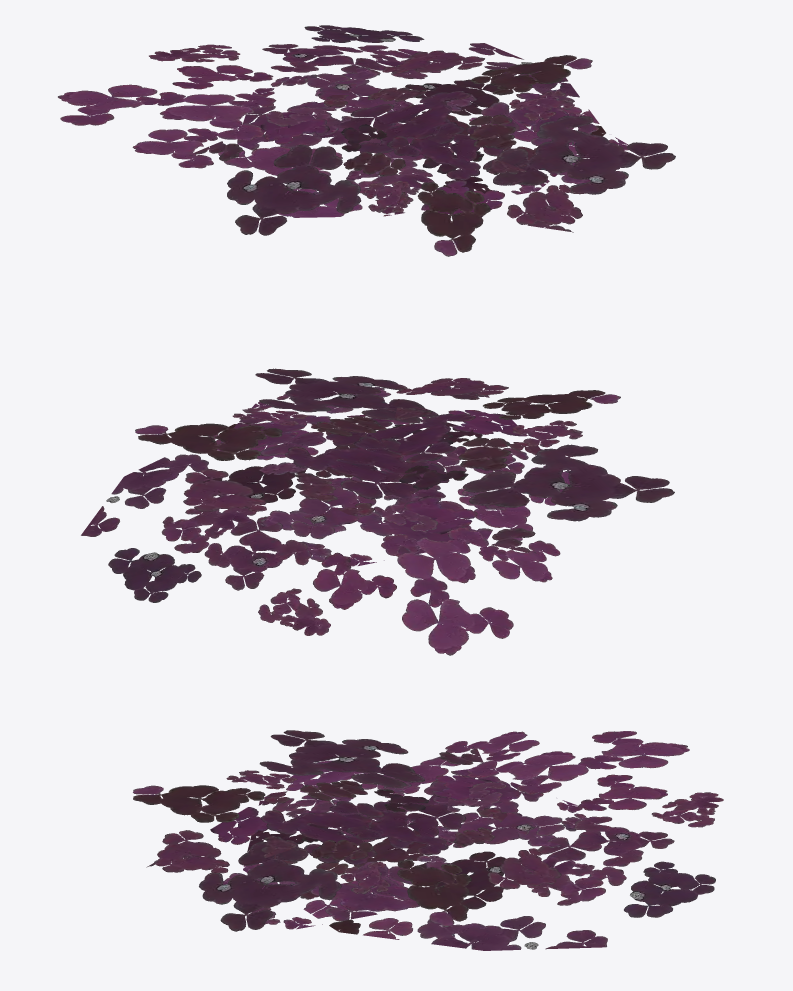
3 views of the same model, one above another, from view 1: azimuth 30°, elevation 25°; view 2: azimuth 150°, elevation 25°; view 3: azimuth 270°, elevation 25° (orthographic). The views are drawn at different scales.
Parts seen in each view (by area): view 1: SM_GF_Sorrel_01_A_LOD0; view 2: SM_GF_Sorrel_01_A_LOD0; view 3: SM_GF_Sorrel_01_A_LOD0.
Part boxes in pixels (x1,y1,x2,y2): SM_GF_Sorrel_01_A_LOD0: (58, 25, 675, 256); SM_GF_Sorrel_01_A_LOD0: (81, 368, 674, 655); SM_GF_Sorrel_01_A_LOD0: (133, 730, 723, 950).
Size of the model in its own units: 1.2 by 0.1006 by 1.31.
Materials: 1 (1 with a texture image).
